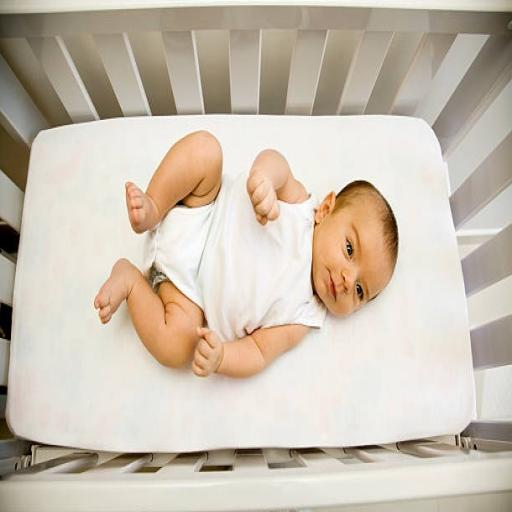baby: (95, 132, 397, 376)
crib: (0, 0, 511, 510)
